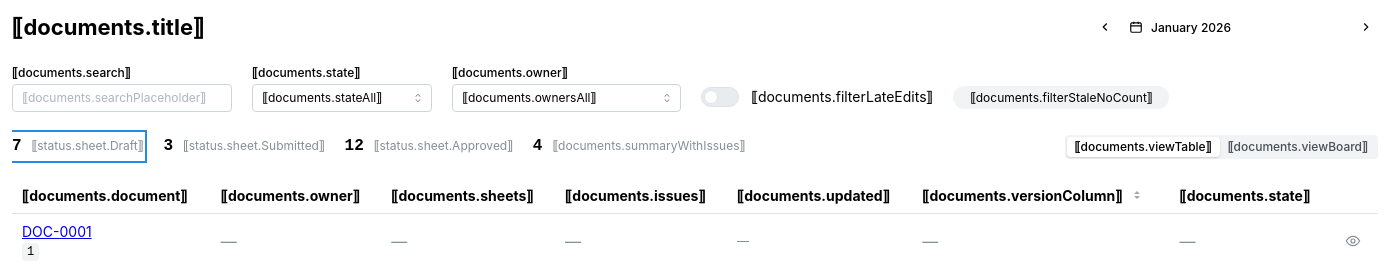
it: DocumentListSummaryStrip: лічильник — фільтр стану (BE-09b) › клік на лічильник ставить state в адресу і в запит, позначає його aria-pressed і лишає на ньому фокус
The image size is (1390, 278).
Click the button "7 ⟦status.sheet.Draft⟧".
click(78, 147)  # box [12,134,143,159]
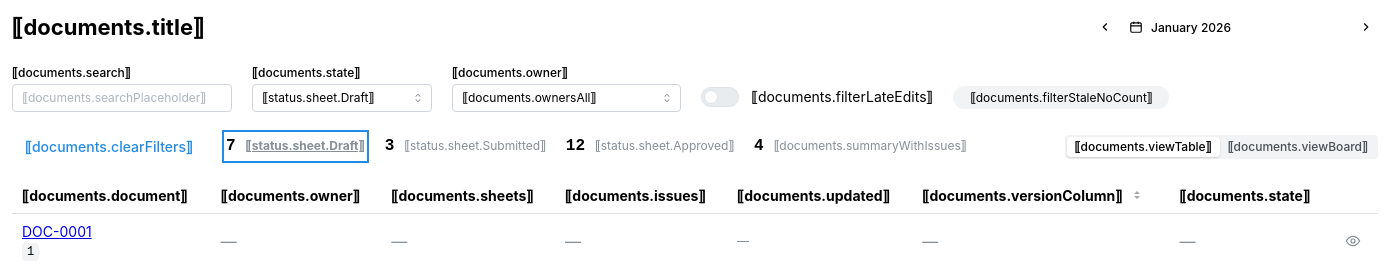
Check: the dropdown labelled "⟦documents.state⟧" shows "⟦status.sheet.Draft⟧", box [252,84,432,112]
